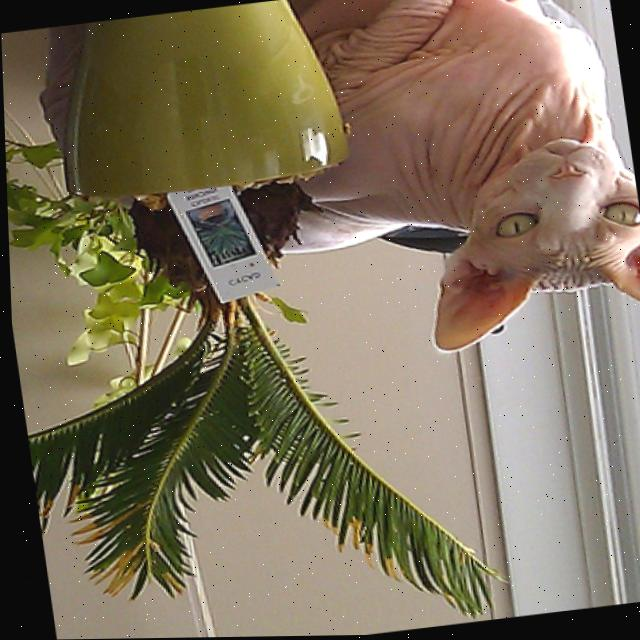Sphynx: (264, 0, 640, 375)
